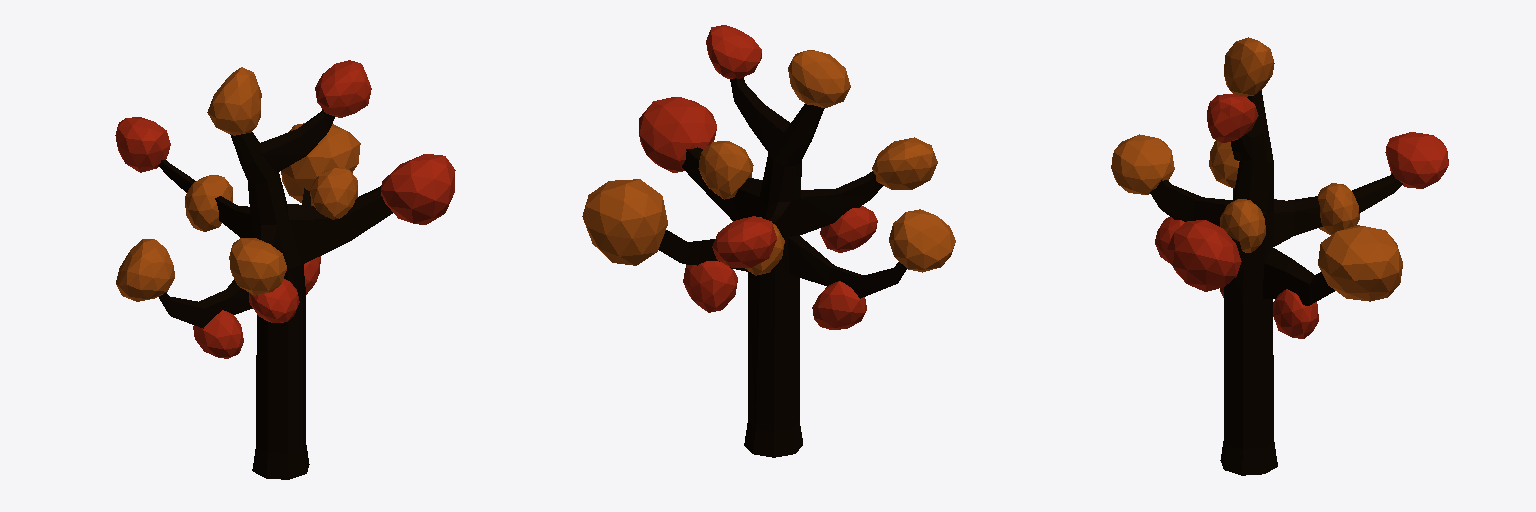
File: TreeFall.obj
3 renders of one model, left to right at view 1: azimuth 30°, elevation 25°; view 2: azimuth 150°, elevation 25°; view 3: azimuth 270°, elevation 25°, orthographic.
Visible parts, largest first — view 1: Cylinder.005_Cylinder.007; view 2: Cylinder.005_Cylinder.007; view 3: Cylinder.005_Cylinder.007.
Boxes of the visible parts, <box> form: Cylinder.005_Cylinder.007: <box>115,60,455,479</box>; Cylinder.005_Cylinder.007: <box>582,25,955,457</box>; Cylinder.005_Cylinder.007: <box>1111,37,1448,475</box>.
Bounding box in the file's own units: 11.66 × 14.08 × 10.61.